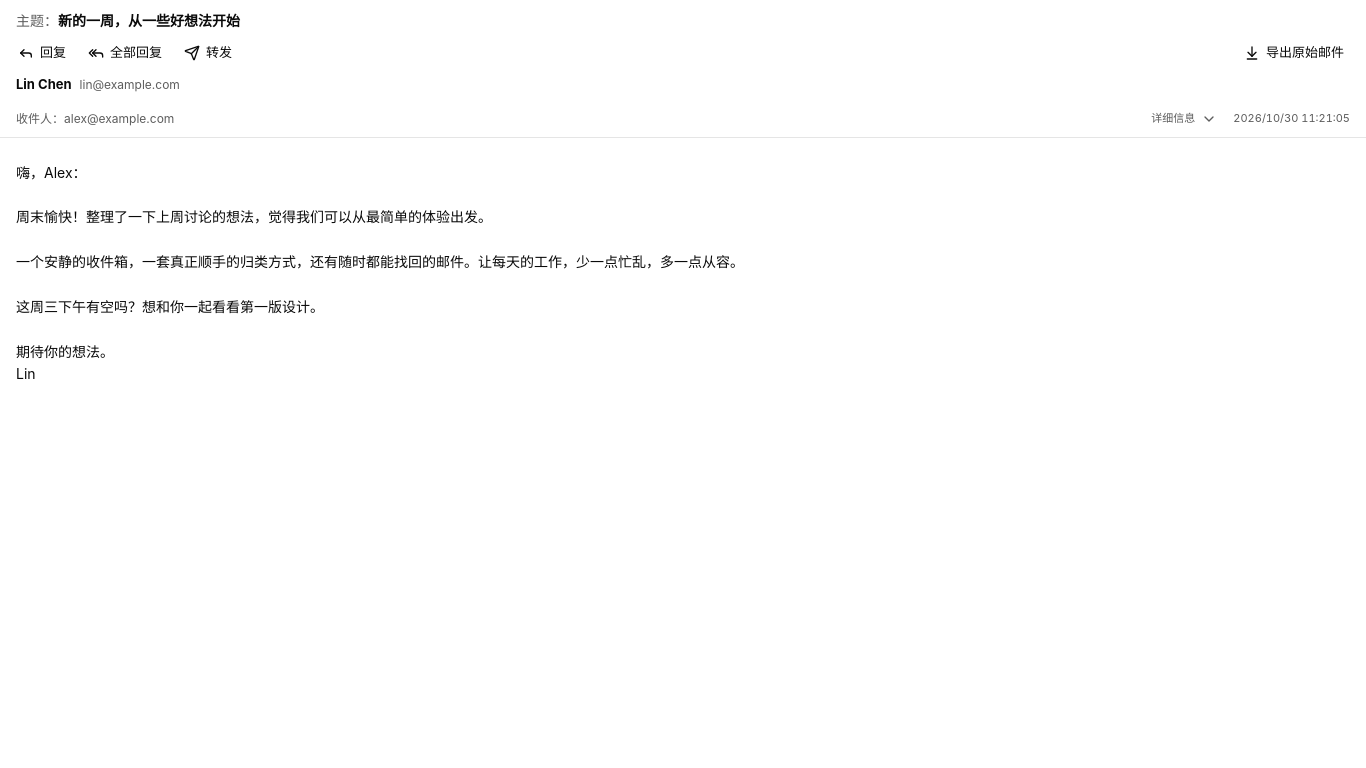
Test case: mail reader window › 在独立窗口里显示收发件人摘要和详细信息
This screenshot has width=1366, height=768.
Expected: the text with class "mail-reader-title" reads "新的一周，从一些好想法开始", [58,12,240,29]
Expected: the element with class "recipient-line" shows "收件人：", [0,108,1365,128]
What coordinates should you click on to do the following:
click the button "详细信息"
I would click on:
 (1184, 118)
Its box is [1147,108,1221,128].
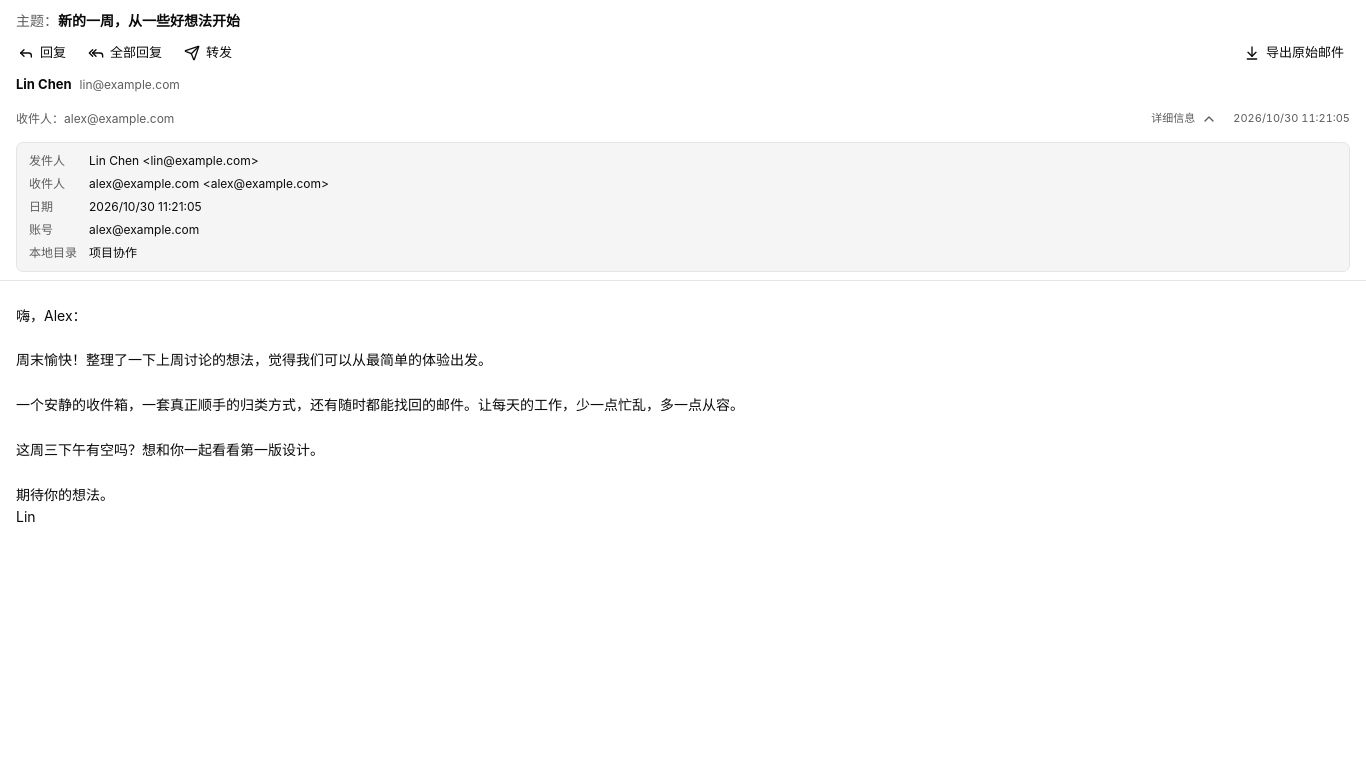
Expected: the element with class "recipient-details" shows "发件人", [29,152,65,168]
